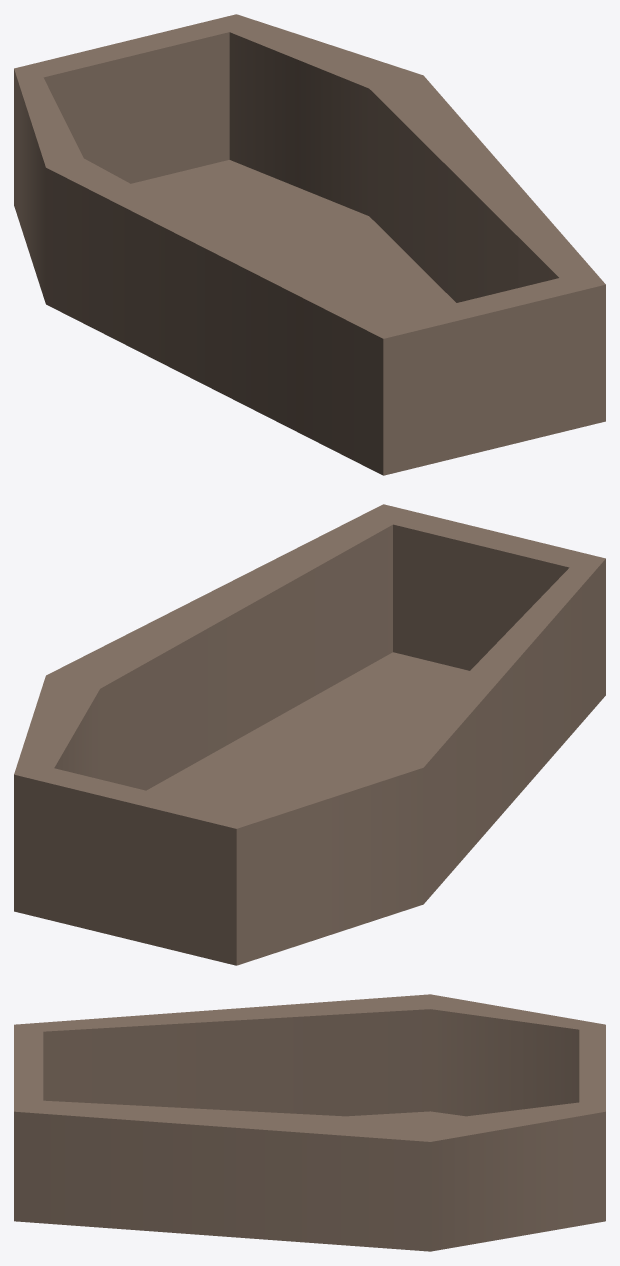
The model's file is Coffin.fbx.
3 renders of one model, top to bottom at view 1: azimuth 30°, elevation 25°; view 2: azimuth 150°, elevation 25°; view 3: azimuth 270°, elevation 25°, orthographic. The views are drawn at different scales.
Parts seen in each view (by area): view 1: coffin; view 2: coffin; view 3: coffin.
Boxes of the visible parts, bbox=[...] form: coffin: bbox=[14, 14, 605, 475]; coffin: bbox=[14, 504, 605, 965]; coffin: bbox=[14, 994, 605, 1251].
Bounding box in the file's own units: 4.06 × 1.4 × 6.87.
